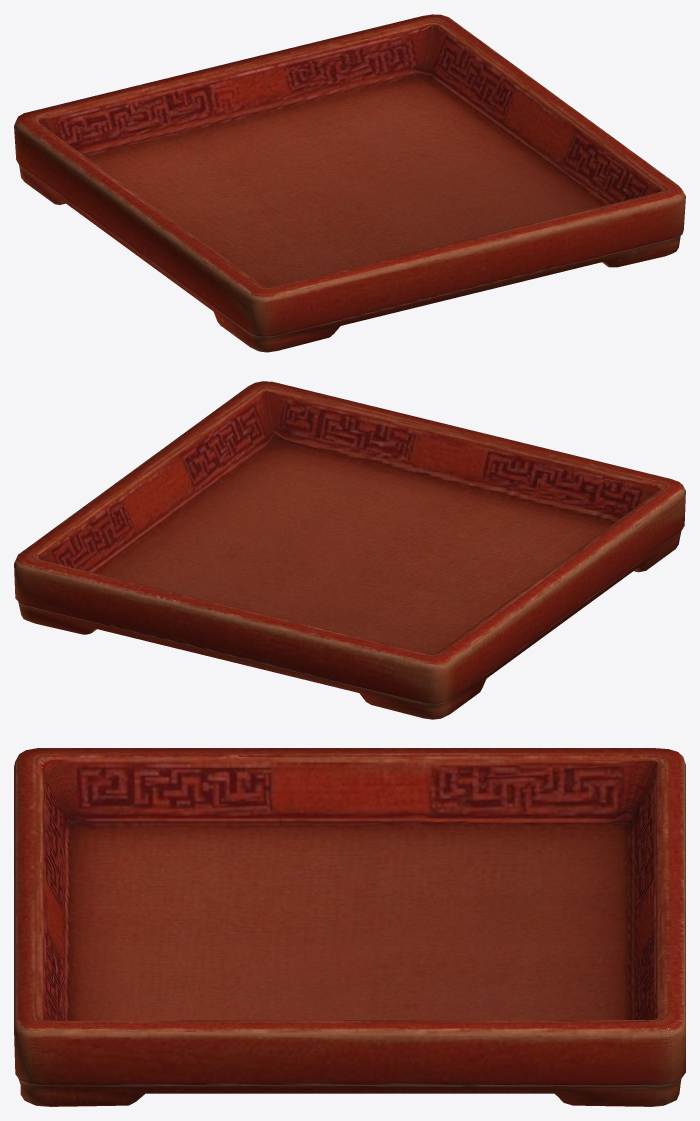
The model's file is plate_M.FBX.
3 renders of one model, top to bottom at view 1: azimuth 30°, elevation 25°; view 2: azimuth 150°, elevation 25°; view 3: azimuth 270°, elevation 25°, orthographic. The views are drawn at different scales.
Parts seen in each view (by area): view 1: tripo_node_9db8f420; view 2: tripo_node_9db8f420; view 3: tripo_node_9db8f420.
Part boxes in pixels (x1=…): tripo_node_9db8f420: x1=14, y1=14, x2=685, y2=352; tripo_node_9db8f420: x1=14, y1=381, x2=685, y2=719; tripo_node_9db8f420: x1=14, y1=748, x2=685, y2=1106.
Bounding box in the file's own units: 0.998 × 0.1348 × 0.998.
